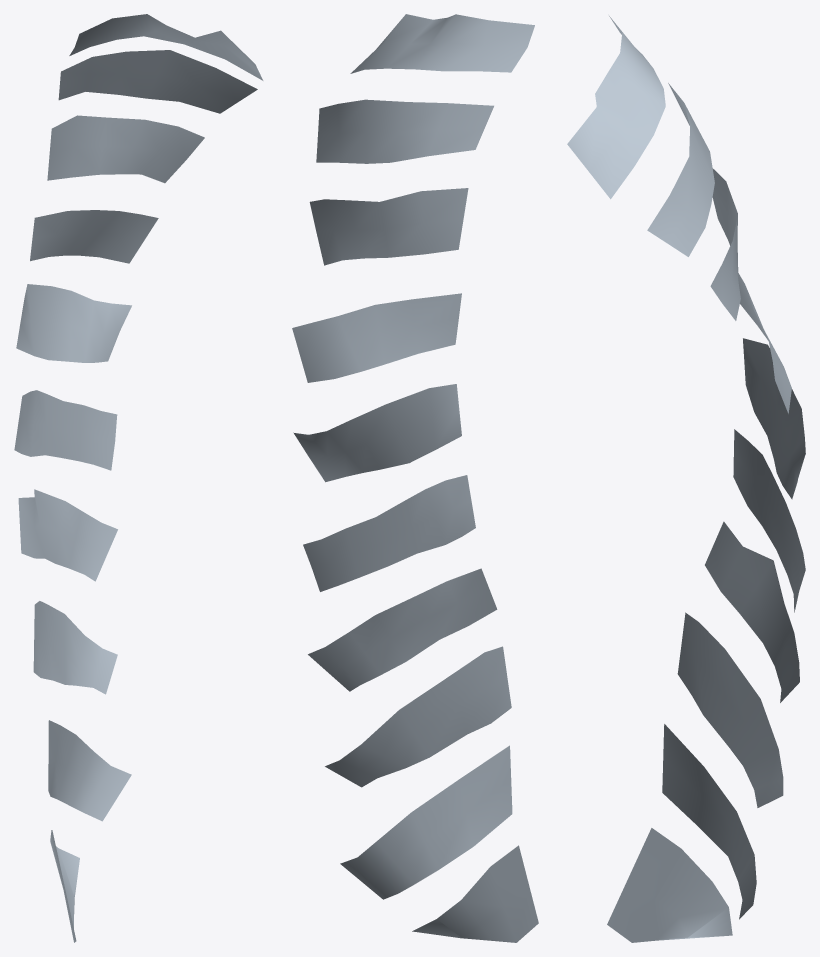
Rendered from internal-intercostal-membrane-l.glb.
3 renders of one model, left to right at view 1: azimuth 30°, elevation 25°; view 2: azimuth 150°, elevation 25°; view 3: azimuth 270°, elevation 25°, orthographic.
Visible parts, largest first — view 1: Internal intercostal membrane.l; view 2: Internal intercostal membrane.l; view 3: Internal intercostal membrane.l.
Boxes of the visible parts, x1,y1,x2,y2 form: Internal intercostal membrane.l: [14, 14, 263, 942]; Internal intercostal membrane.l: [292, 14, 538, 942]; Internal intercostal membrane.l: [567, 16, 805, 942].
Bounding box in the file's own units: 0.0668 × 0.2807 × 0.0656.
